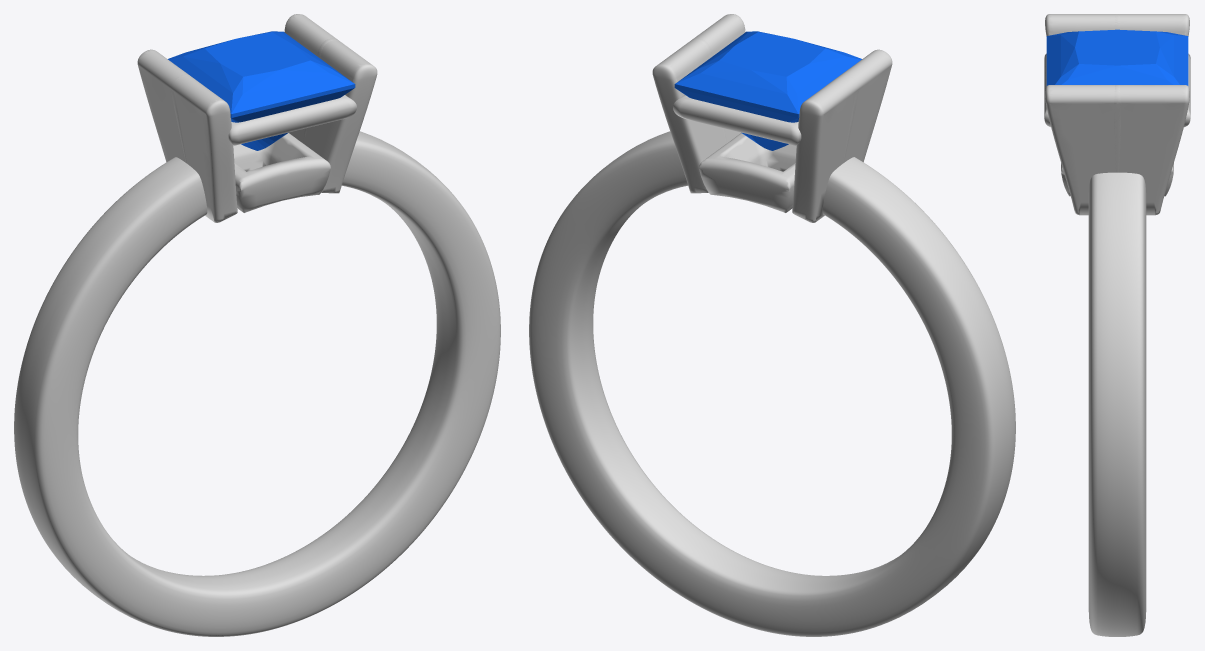
Rendered from bluesapphire-princess-platinum-halfmoonbezel-straightband-solitaire.glb.
The picture shows the model from 3 angles, left to right: view 1: azimuth 30°, elevation 25°; view 2: azimuth 150°, elevation 25°; view 3: azimuth 270°, elevation 25°; orthographic projection.
Parts seen in each view (by area): view 1: metal, stone; view 2: metal, stone; view 3: metal, stone.
Boxes of the visible parts, box(x1,y1,x2,y2) form: metal: box(14, 14, 500, 636); stone: box(168, 31, 355, 150); metal: box(529, 14, 1015, 636); stone: box(674, 31, 861, 150); metal: box(1044, 14, 1190, 636); stone: box(1046, 29, 1188, 85).
Size of the model in its own units: 20.51 by 23.86 by 5.6.
